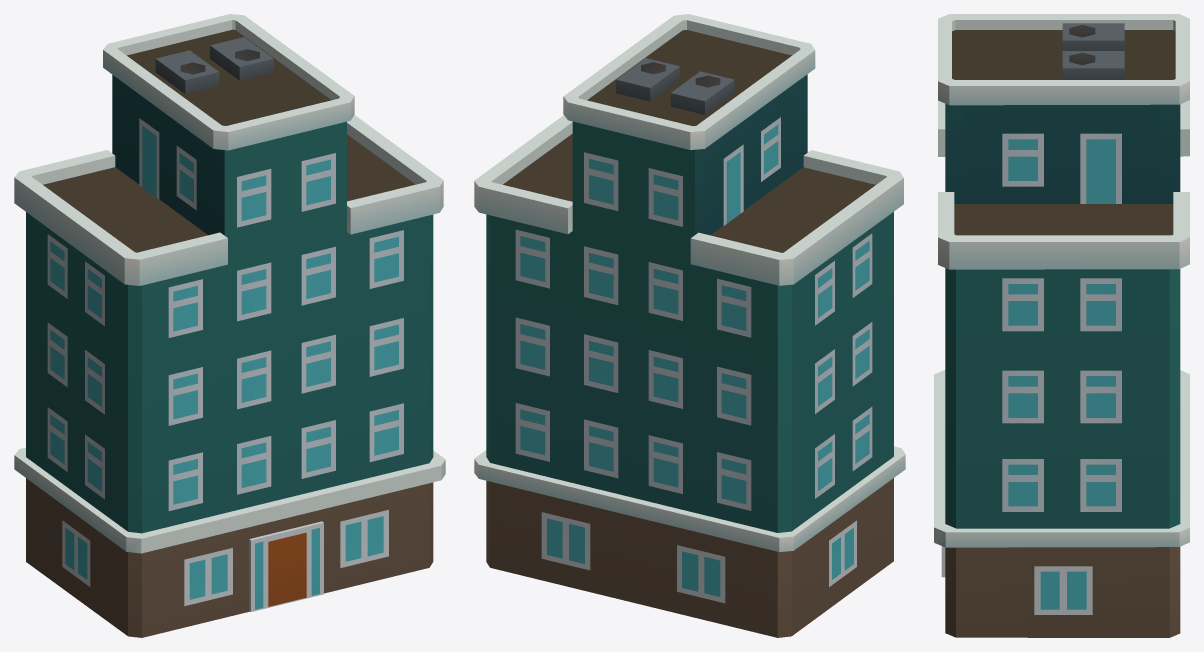
Rendered from Building_cartoon_50.fbx.
3 views of the same model, side by side, from view 1: azimuth 30°, elevation 25°; view 2: azimuth 150°, elevation 25°; view 3: azimuth 270°, elevation 25° (orthographic). The views are drawn at different scales.
Visible parts, largest first — view 1: Building_cartoon_50; view 2: Building_cartoon_50; view 3: Building_cartoon_50.
Part boxes in pixels (left/top/right/bottom): Building_cartoon_50: left=14, top=14, right=445, bottom=637; Building_cartoon_50: left=474, top=14, right=905, bottom=637; Building_cartoon_50: left=934, top=14, right=1189, bottom=637.
Size of the model in its own units: 1189 by 1755 by 790.
